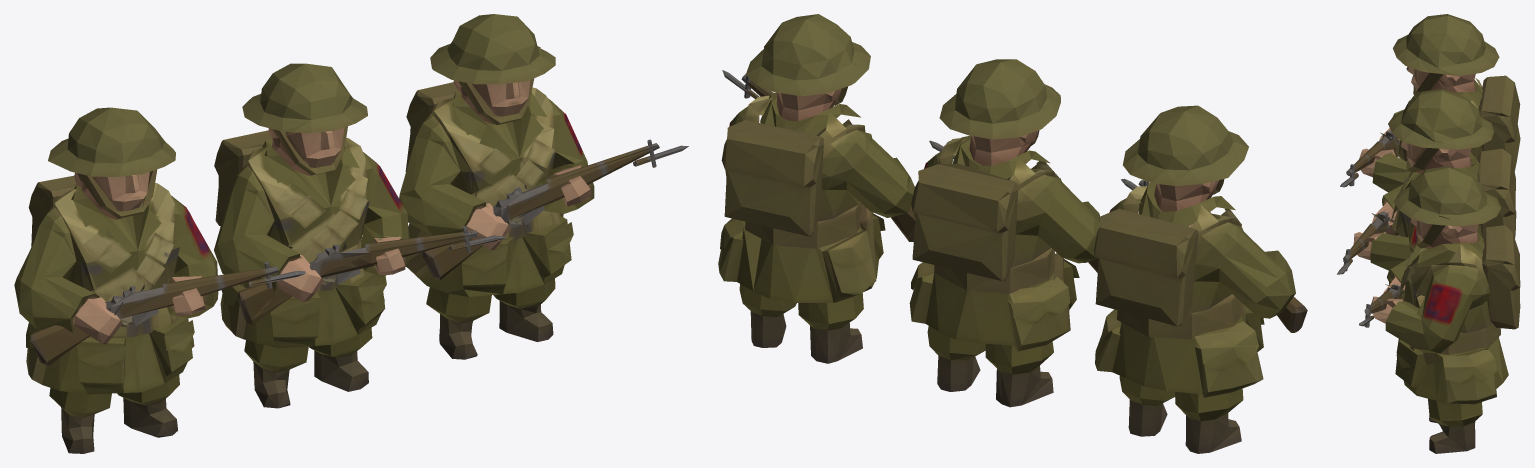
The model's file is bulge_british_inf.glb.
3 views of the same model, side by side, from view 1: azimuth 30°, elevation 25°; view 2: azimuth 150°, elevation 25°; view 3: azimuth 270°, elevation 25° (orthographic). The views are drawn at different scales.
Parts seen in each view (by area): view 1: figura; view 2: figura; view 3: figura.
Boxes of the visible parts, x1,y1,x2,y2 form: figura: (14,14,688,453); figura: (718,14,1307,453); figura: (1337,14,1520,453).
Size of the model in its own units: 1.42 by 0.7147 by 0.4471.
1 material, 1 textured.
